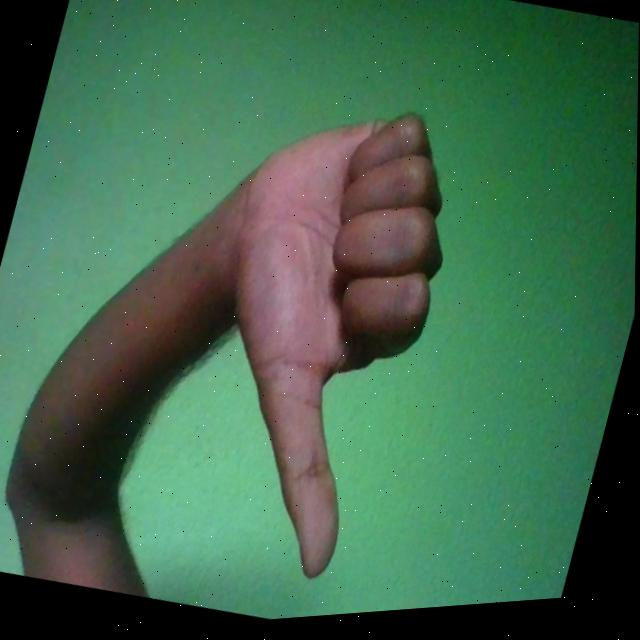Dislike: (153, 79, 478, 602)
